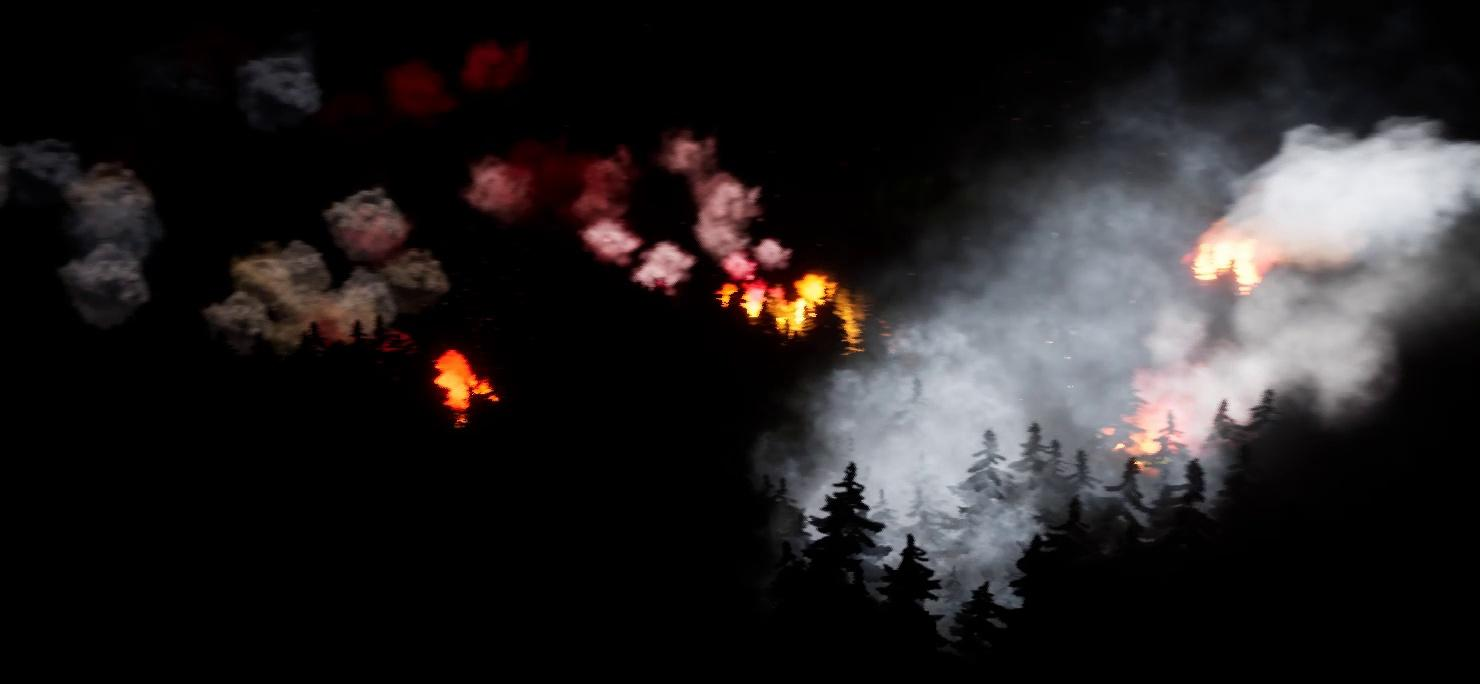fire: (1098, 411, 1198, 478), (426, 350, 495, 427), (723, 275, 831, 319), (1185, 229, 1254, 291)
smoke: (752, 73, 1479, 622), (3, 55, 439, 342), (467, 129, 782, 293)
